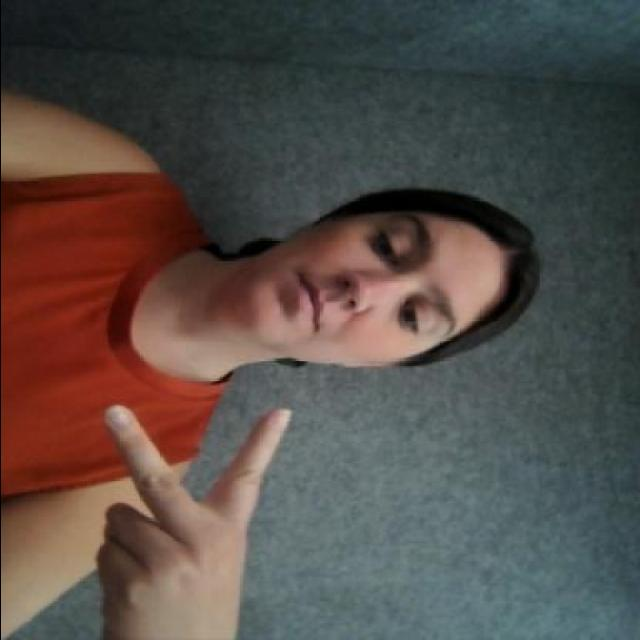Scissors: (84, 394, 302, 640)
